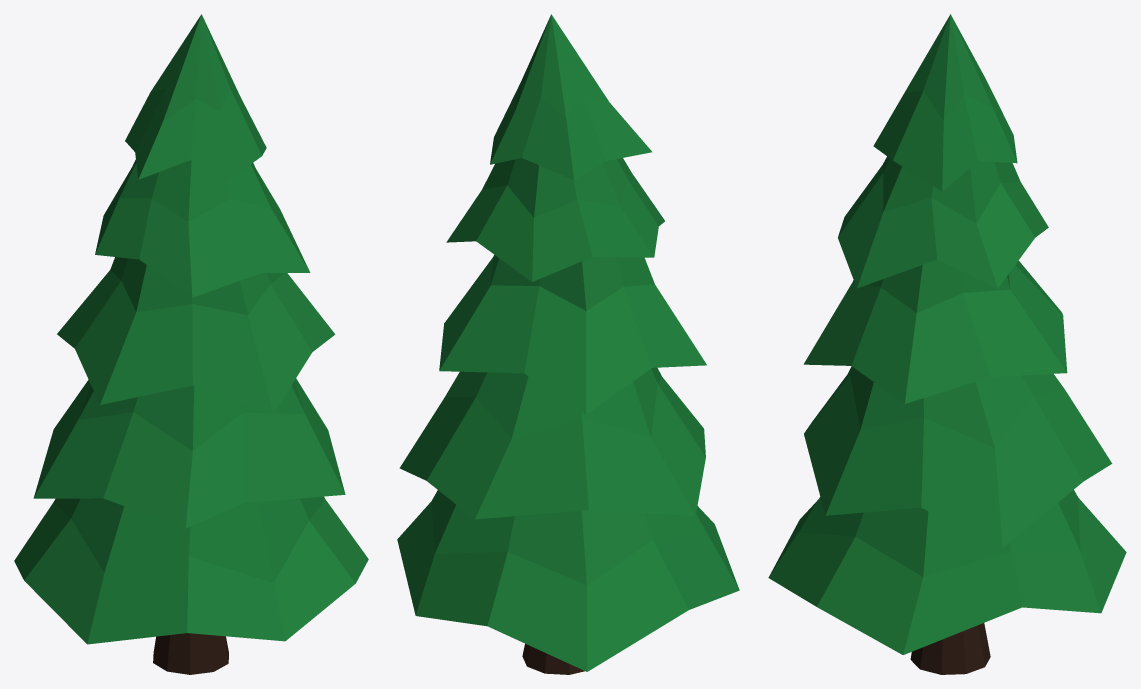
Rendered from cassay.glb.
3 renders of one model, left to right at view 1: azimuth 30°, elevation 25°; view 2: azimuth 150°, elevation 25°; view 3: azimuth 270°, elevation 25°, orthographic.
Parts seen in each view (by area): view 1: conifer2_Cylinder.001; view 2: conifer2_Cylinder.001; view 3: conifer2_Cylinder.001.
Part boxes in pixels (x1,y1,x2,y2): conifer2_Cylinder.001: (14,14,368,674); conifer2_Cylinder.001: (397,14,739,674); conifer2_Cylinder.001: (768,14,1126,674).
Size of the model in its own units: 7.65 by 15.55 by 7.77.
